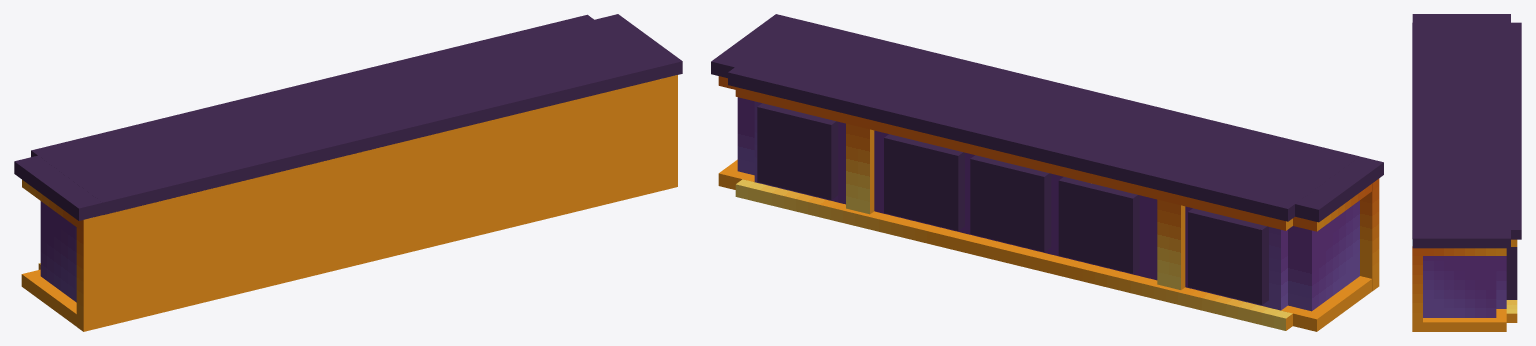
Rendered from Fancy Desk.gltf.
3 renders of one model, left to right at view 1: azimuth 30°, elevation 25°; view 2: azimuth 150°, elevation 25°; view 3: azimuth 270°, elevation 25°, orthographic. The views are drawn at different scales.
Parts seen in each view (by area): view 1: cube (×5); view 2: cube (×16); view 3: cube (×9).
Boxes of the visible parts, box(x1,y1,x2,y2) form: cube (×5): box(14, 14, 682, 331); cube (×16): box(711, 14, 1383, 331); cube (×9): box(1412, 14, 1521, 331).
Bounding box in the file's own units: 0.7939 × 0.1565 × 0.1627.
Materials: 1 (1 with a texture image).
